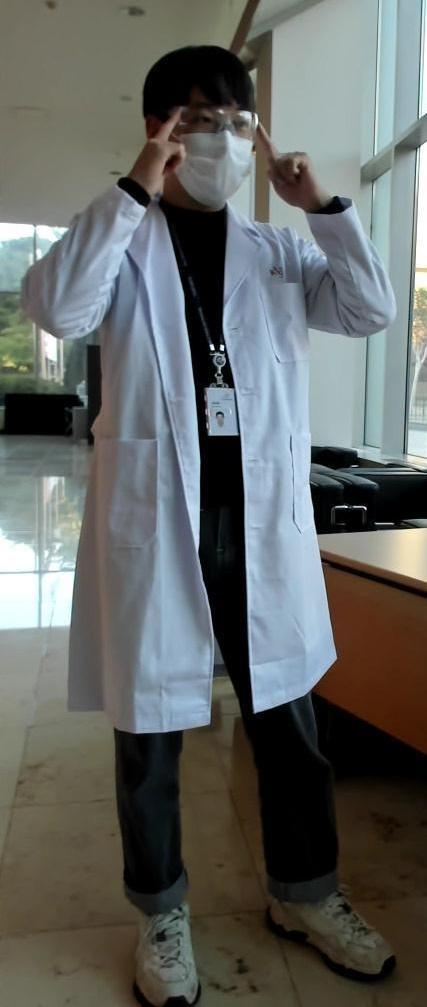lab_coat: (34, 222, 384, 706)
